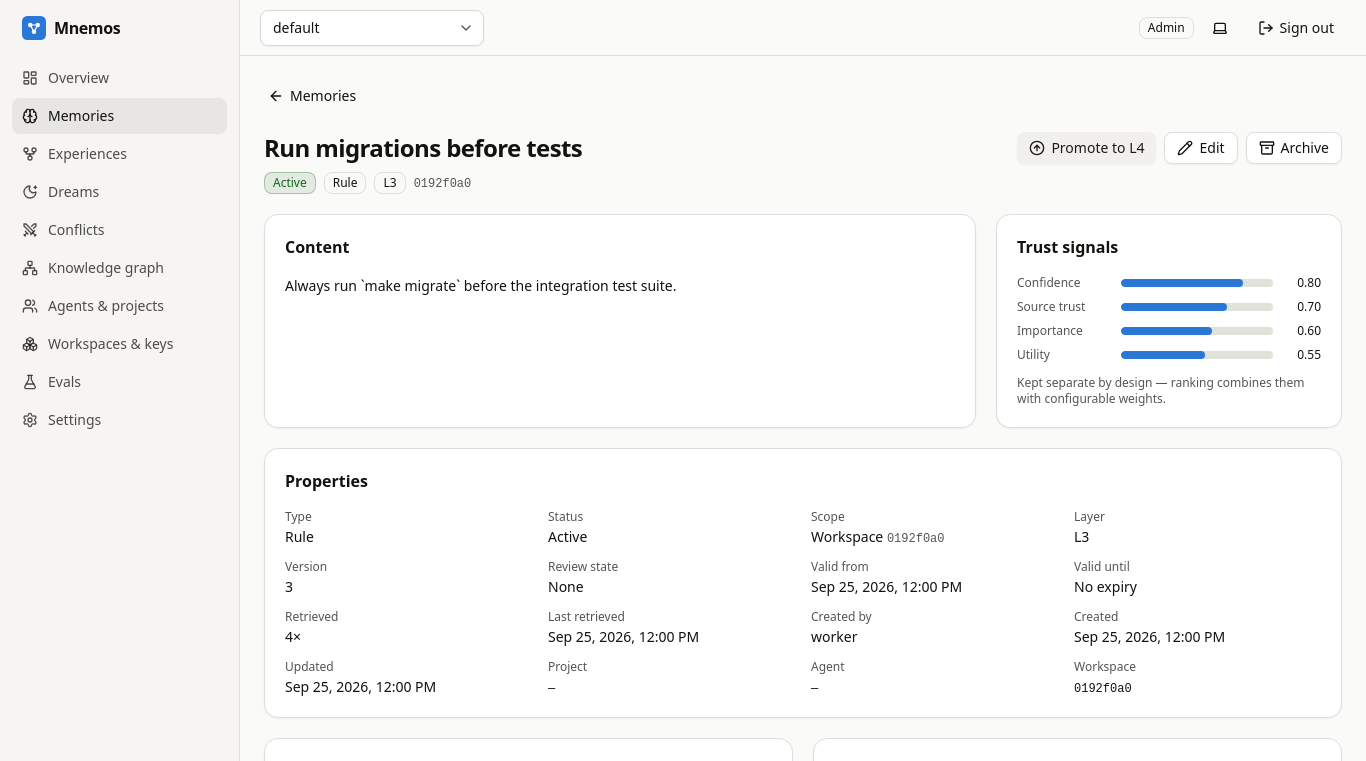
it: Memory detail › handles a PATCH 409 version conflict: explains it, offers reload, then saves on the new version
Click the button with test id "memory-edit-button": (1201, 148) [1164,132,1238,164]
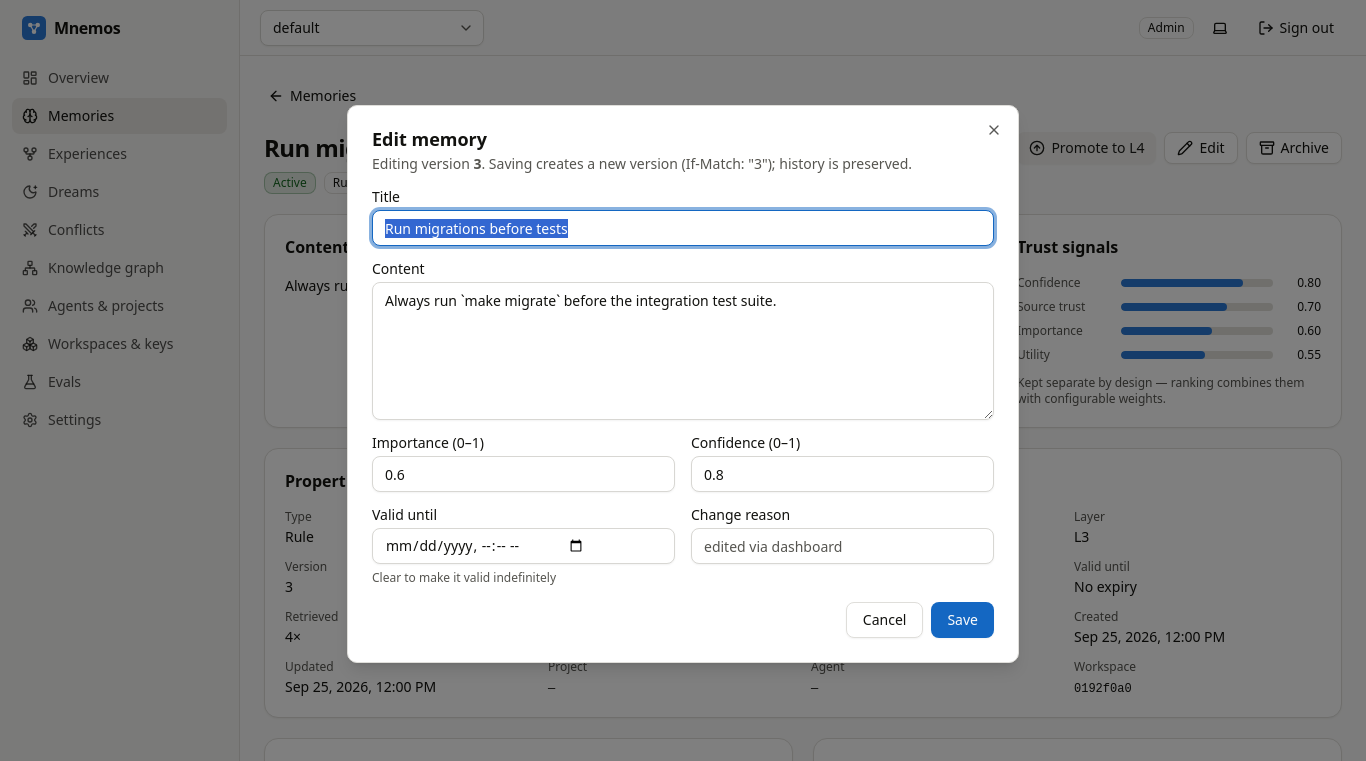
Result: the text with test id "memory-edit-base-version" reads "3" at [474,154,482,173]
Replace the text in the field with test id "memory-edit-title" with "Run migrations before every test run": (683, 228) [372,210,994,246]
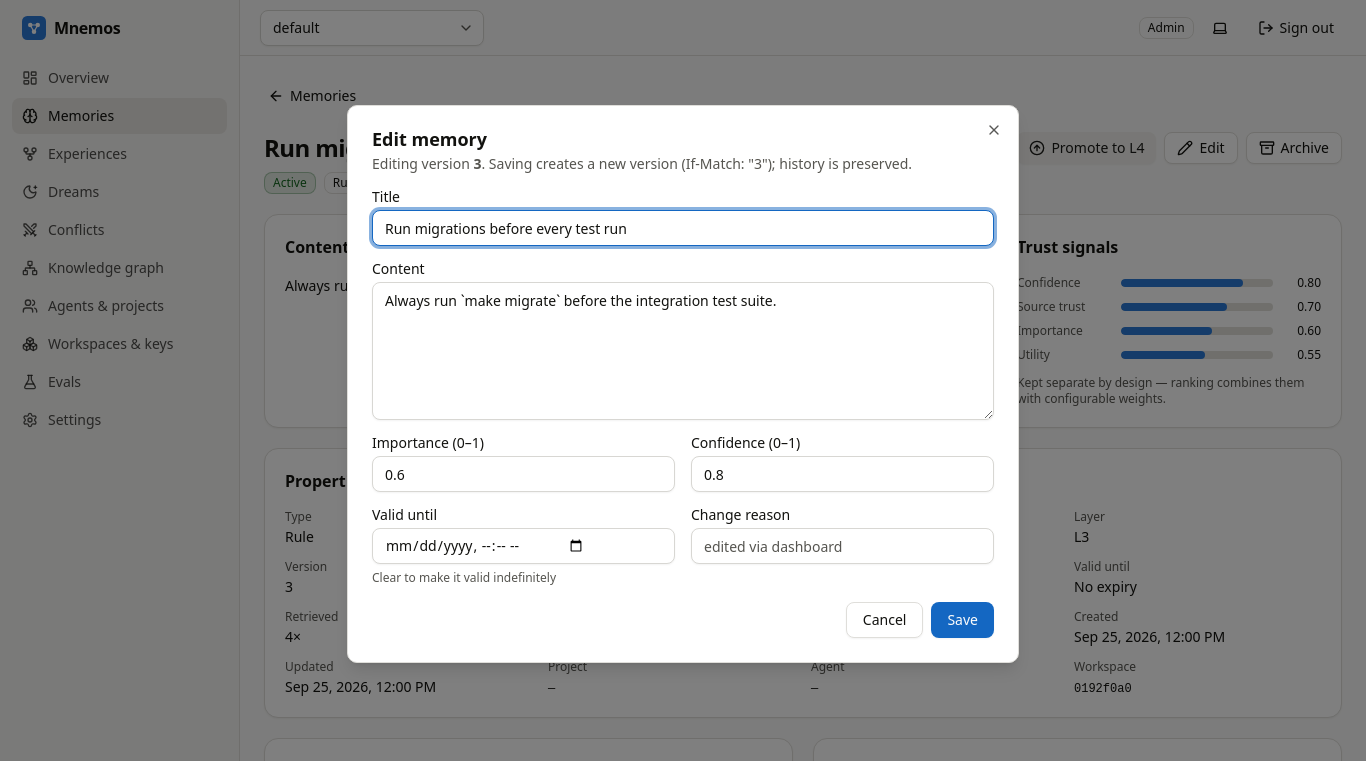
Click the button with test id "memory-edit-submit": (963, 620) [931,602,994,638]
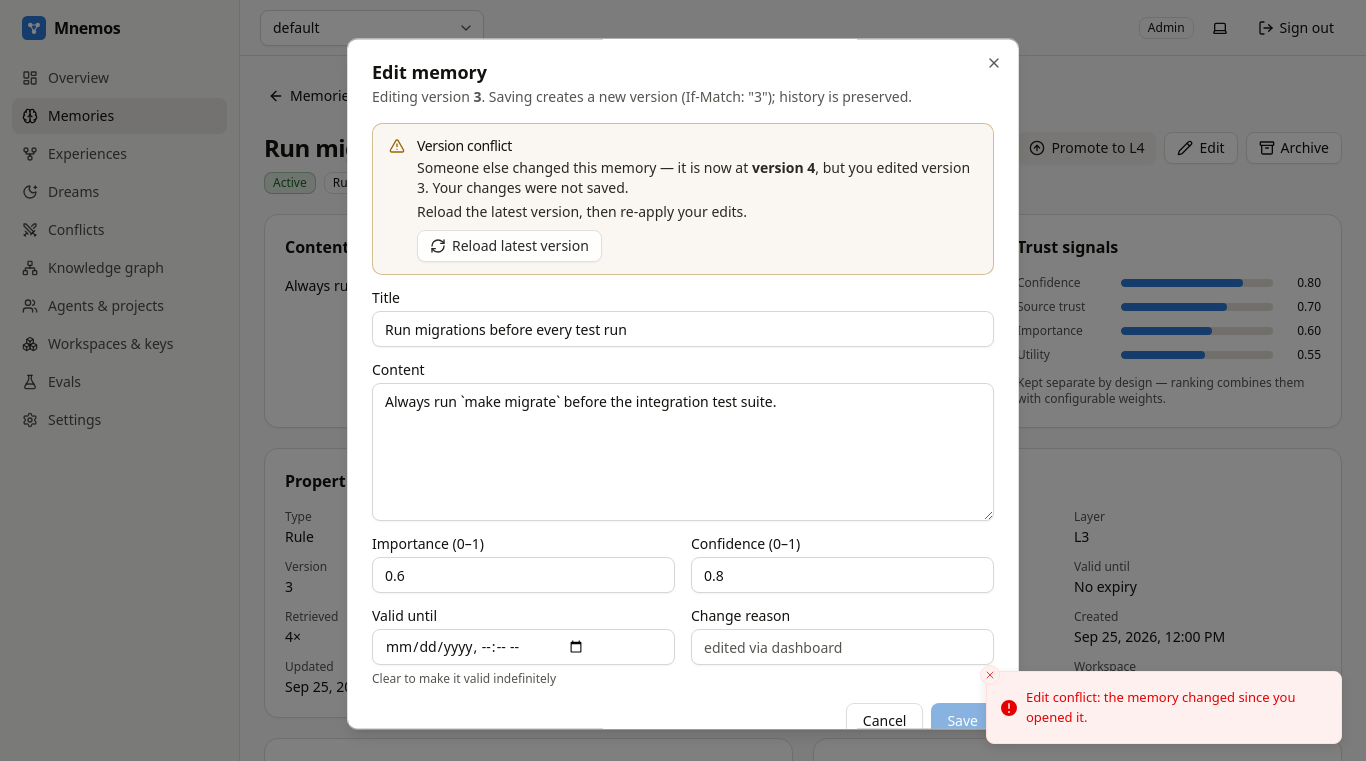
Result: the message with test id "memory-conflict-alert" shows "version 4" at [372,123,994,275]
Result: the message with test id "memory-conflict-alert" shows "you edited version 3" at [372,123,994,275]
Result: the button with test id "memory-edit-submit" is disabled at [931,703,994,730]
Click the button with test id "memory-conflict-reload": (509, 246) [417,230,602,262]
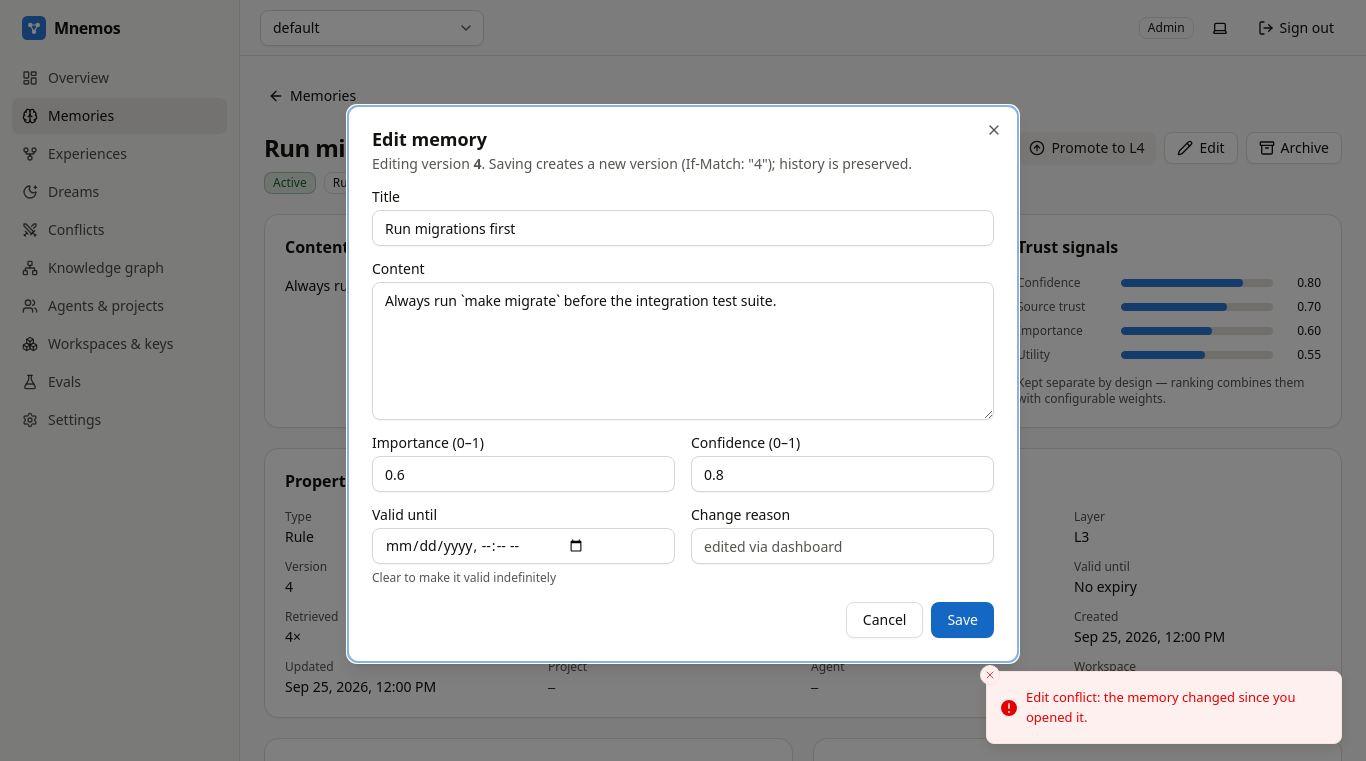
Result: the message with test id "memory-conflict-alert" is gone
Result: the text with test id "memory-edit-base-version" reads "4" at [474,154,482,173]
Result: the field with test id "memory-edit-title" holds "Run migrations first" at [372,210,994,246]
Replace the text in the number field with test id "memory-edit-importance" with "0.9": (524, 474) [372,456,675,492]
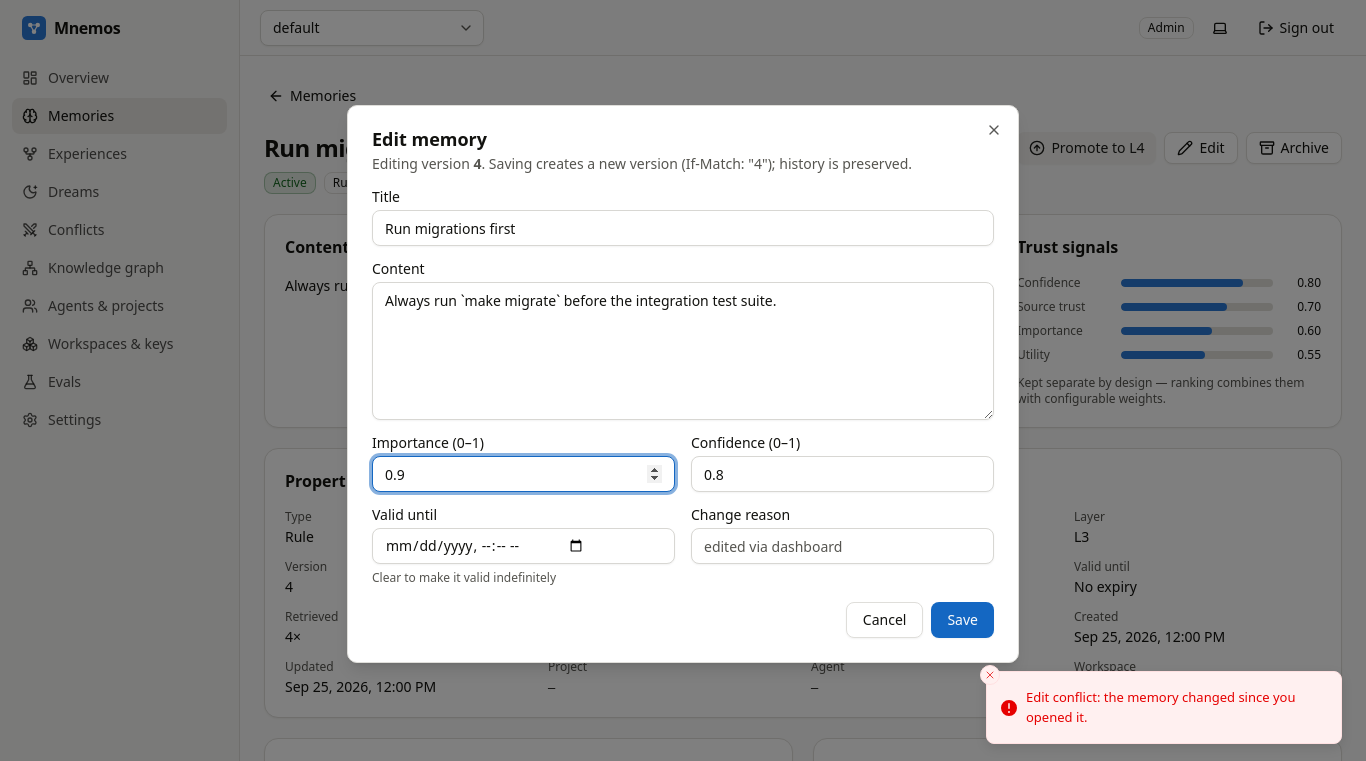
Click the button with test id "memory-edit-submit": (963, 620) [931,602,994,638]
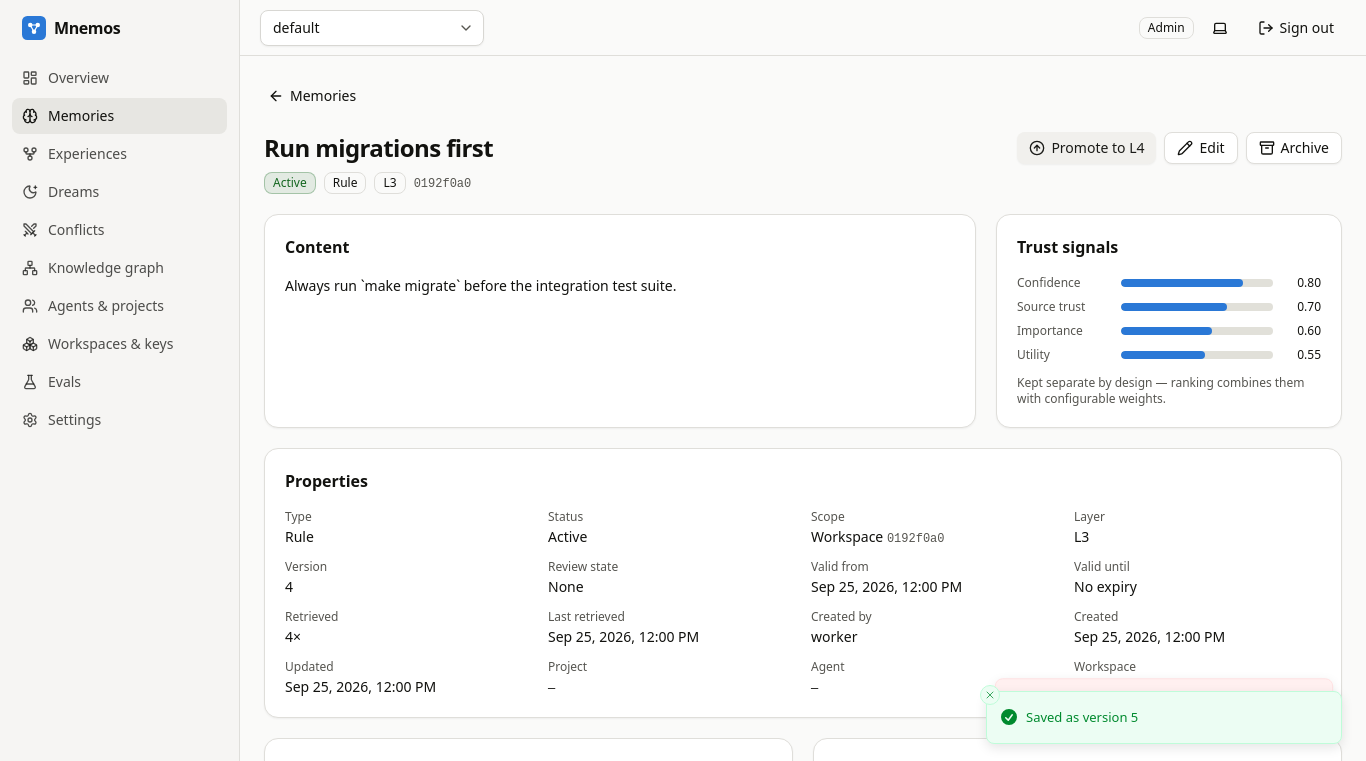
Result: the form with test id "memory-edit-form" is gone
Result: the text "Saved as version 5" is shown at [1026,708,1138,727]
